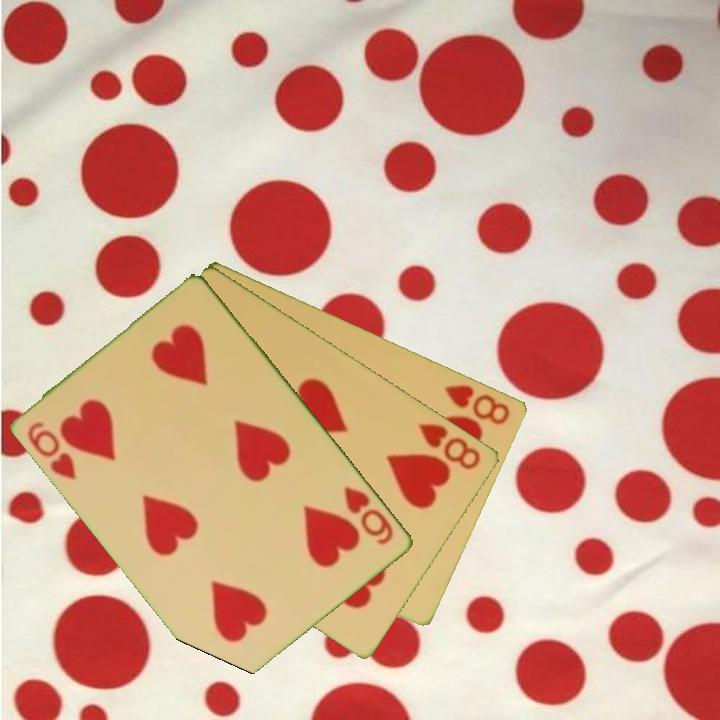6h: (340, 482, 397, 548), (24, 418, 80, 484)
8h: (415, 419, 484, 473), (440, 380, 514, 428)
